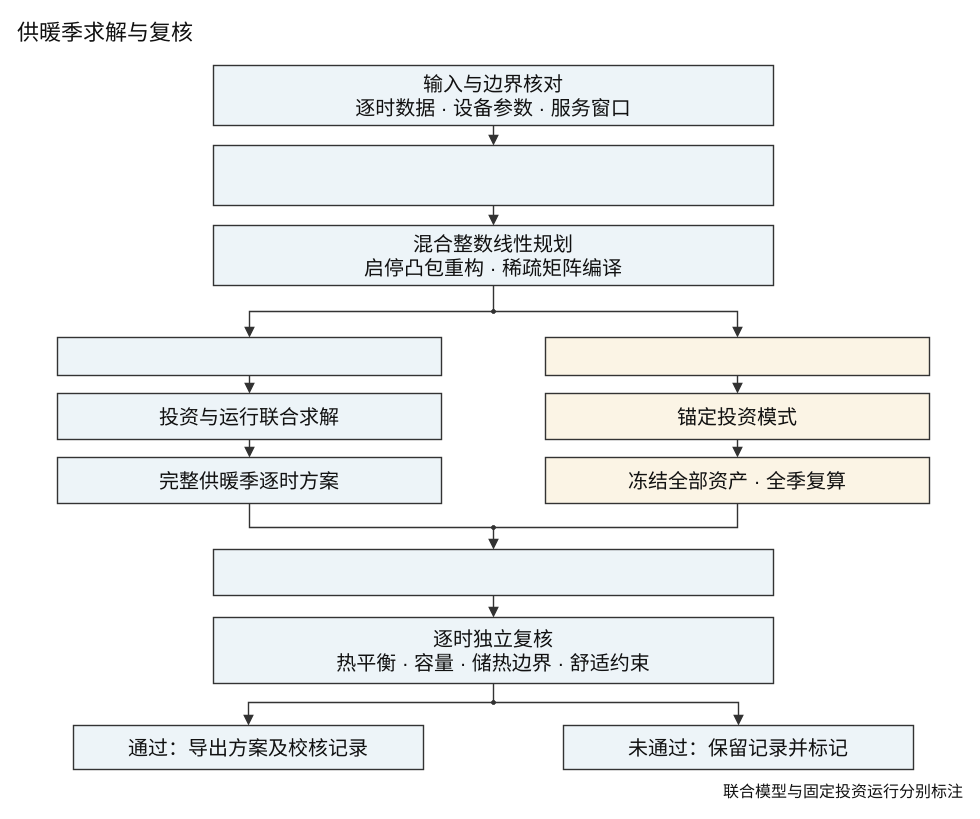
Image size: 980x819. Some labels were removed from this diagram. Here are the shapes that lost their labels. From the top down, the box of each, then its label:
(212, 144, 774, 206): 源—网—荷—储统一建模 节点热平衡 · 温位匹配 · 状态递推
(56, 336, 442, 376): 乌鲁木齐
(544, 336, 930, 376): 固原、武汉
(212, 548, 774, 596): 保存可行解、上下界与相对间隙
